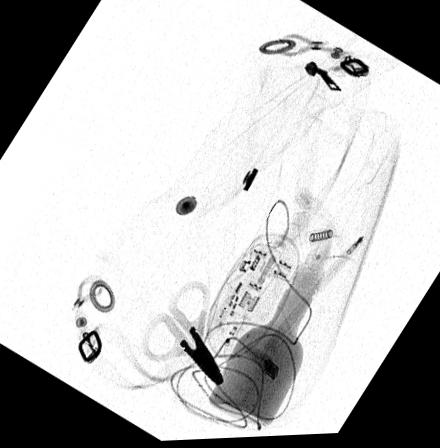Scissors: (136, 280, 226, 389)
